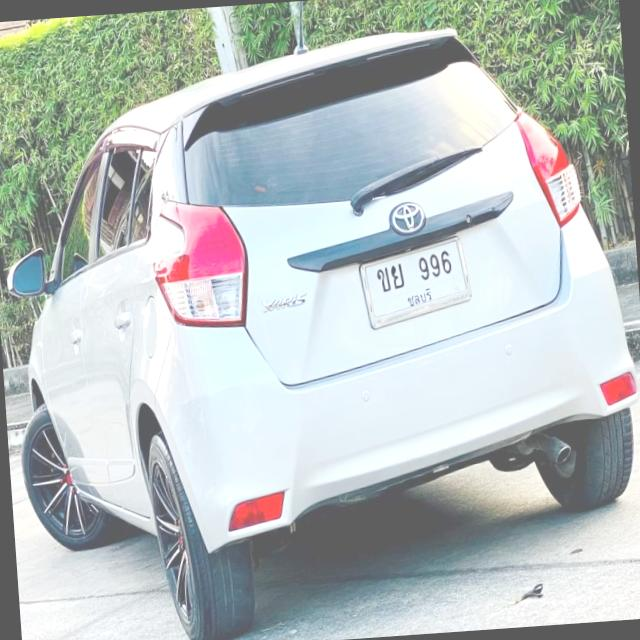license_plate: (354, 232, 475, 334)
